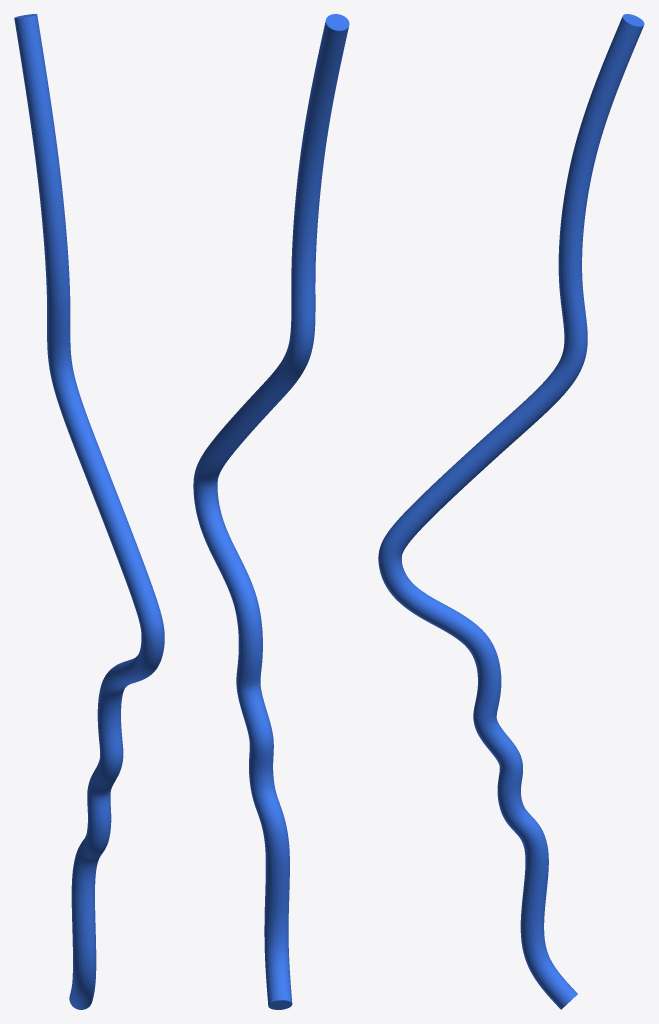
The model's file is faces11 - lineprofile.glb.
3 views of the same model, side by side, from view 1: azimuth 30°, elevation 25°; view 2: azimuth 210°, elevation 25°; view 3: azimuth 270°, elevation 25° (orthographic). The views are drawn at different scales.
Parts seen in each view (by area): view 1: Tube; view 2: Tube; view 3: Tube.
Part boxes in pixels (bbox=[...]): Tube: bbox=[14, 14, 164, 1009]; Tube: bbox=[193, 14, 349, 1009]; Tube: bbox=[378, 14, 644, 1009].
Size of the model in its own units: 0.067 by 1.39 by 0.342.
